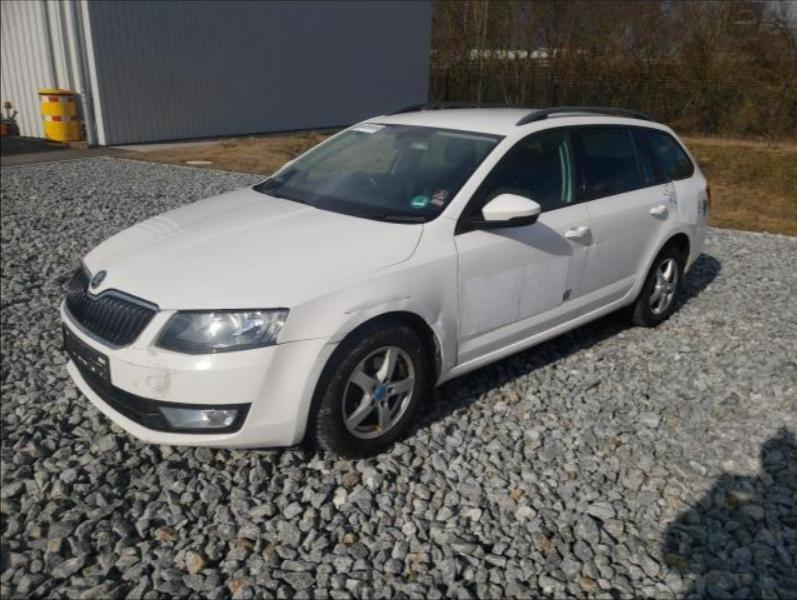Corrosion: (371, 423, 385, 434)
Dent: (344, 293, 416, 316), (426, 298, 446, 345)
Missing part: (62, 321, 109, 387)
Paint chip: (139, 364, 172, 395)
Scratch: (337, 294, 412, 317), (561, 288, 573, 305), (561, 284, 573, 301), (325, 340, 339, 346)
